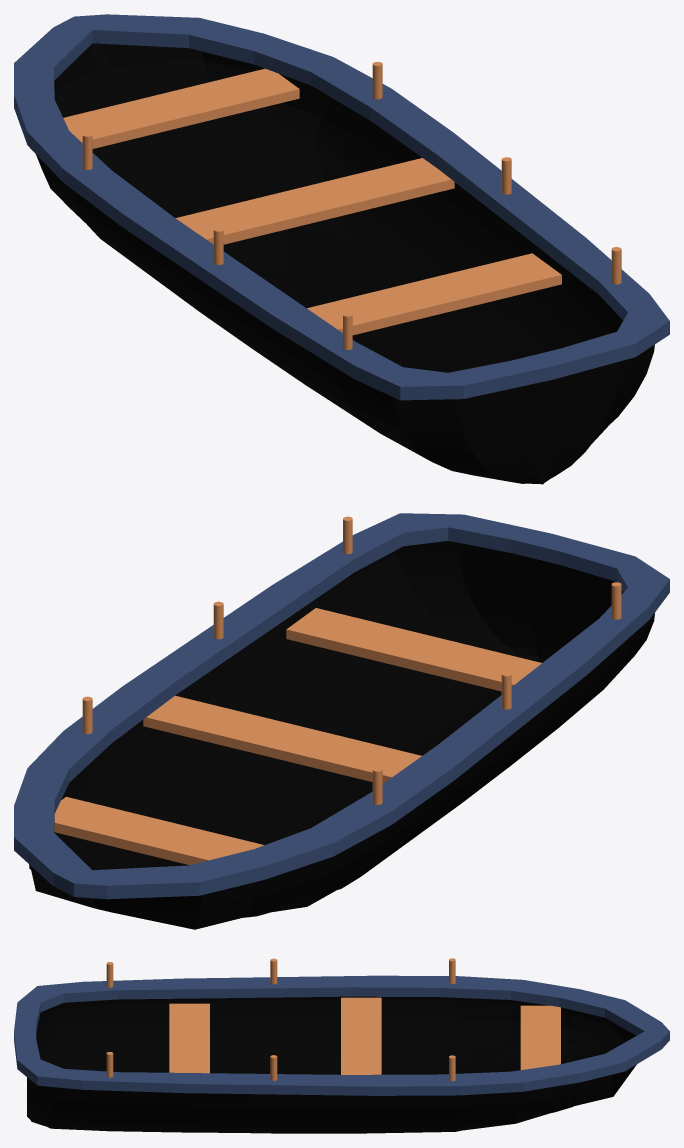
File: Curragh Fixed.fbx
The picture shows the model from 3 angles, top to bottom: view 1: azimuth 30°, elevation 25°; view 2: azimuth 150°, elevation 25°; view 3: azimuth 270°, elevation 25°; orthographic projection. The views are drawn at different scales.
Parts seen in each view (by area): view 1: Cylinder.011; view 2: Cylinder.011; view 3: Cylinder.011.
Boxes of the visible parts, x1,y1,x2,y2 form: Cylinder.011: (14, 14, 669, 484); Cylinder.011: (14, 513, 669, 929); Cylinder.011: (14, 958, 669, 1133).
Bounding box in the file's own units: 387 × 176 × 967.
